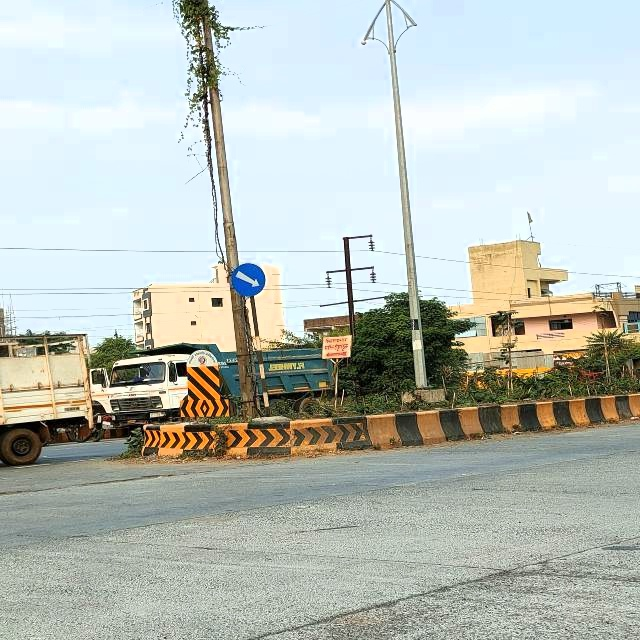R.301e: (230, 263, 266, 299)
